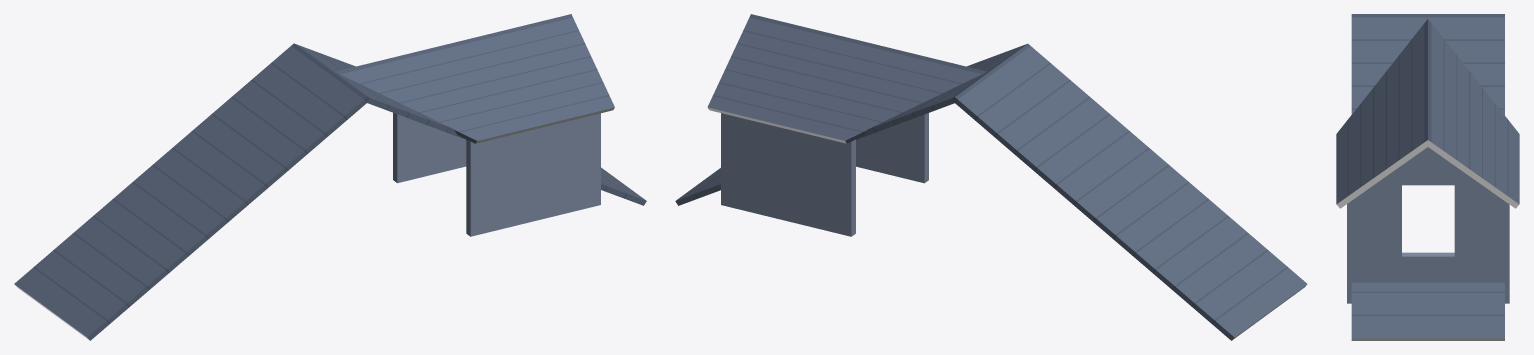
File: Roof4_C4_06.fbx
3 views of the same model, side by side, from view 1: azimuth 30°, elevation 25°; view 2: azimuth 150°, elevation 25°; view 3: azimuth 270°, elevation 25° (orthographic). The views are drawn at different scales.
Parts seen in each view (by area): view 1: Roof4_C4_06; view 2: Roof4_C4_06; view 3: Roof4_C4_06.
Boxes of the visible parts, x1,y1,x2,y2 form: Roof4_C4_06: [14, 14, 646, 340]; Roof4_C4_06: [675, 14, 1307, 340]; Roof4_C4_06: [1336, 14, 1519, 340].
Size of the model in its own units: 1105 by 333 by 298.
